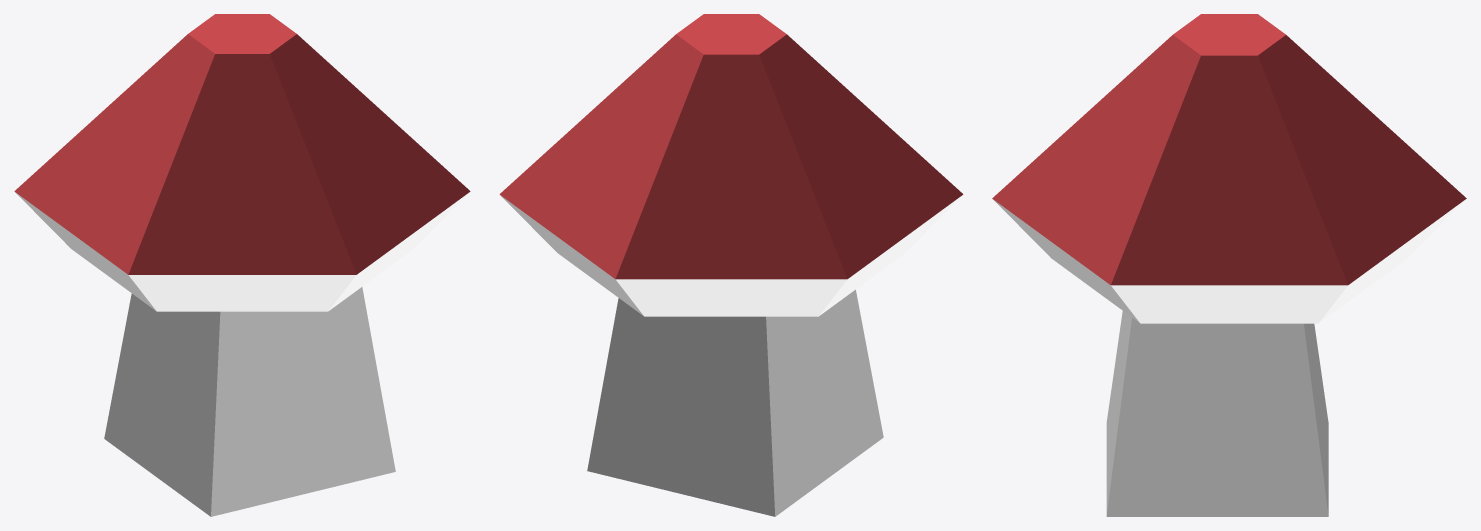
File: mushroom_red.obj
3 views of the same model, side by side, from view 1: azimuth 30°, elevation 25°; view 2: azimuth 150°, elevation 25°; view 3: azimuth 270°, elevation 25° (orthographic). The views are drawn at different scales.
Visible parts, largest first — view 1: mushroom_red; view 2: mushroom_red; view 3: mushroom_red.
Part boxes in pixels (x1,y1,x2,y2): mushroom_red: (14, 14, 470, 516); mushroom_red: (499, 14, 963, 516); mushroom_red: (992, 14, 1466, 516).
Bounding box in the file's own units: 1.74 × 2.03 × 2.01.
